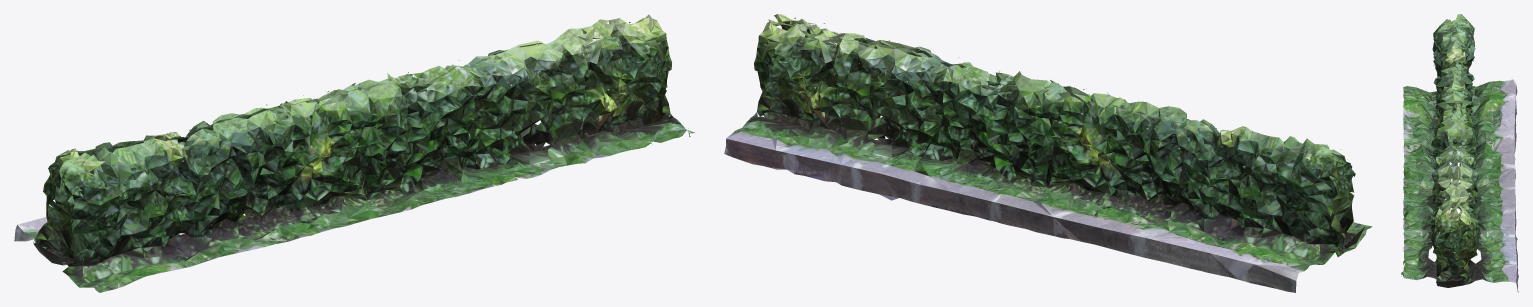
Rendered from HedgeLowPoly.fbx.
The picture shows the model from 3 angles, left to right: view 1: azimuth 30°, elevation 25°; view 2: azimuth 150°, elevation 25°; view 3: azimuth 270°, elevation 25°; orthographic projection. The views are drawn at different scales.
Visible parts, largest first — view 1: Hedge; view 2: Hedge; view 3: Hedge.
Part boxes in pixels (x1,y1,x2,y2): Hedge: (14, 14, 694, 292); Hedge: (724, 14, 1372, 292); Hedge: (1401, 14, 1518, 292).
Bounding box in the file's own units: 1822 × 353 × 435.
Materials: 1 (1 with a texture image).
